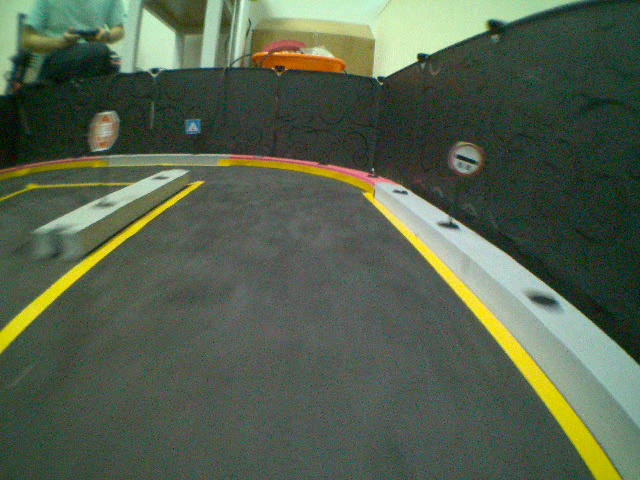Check: (450, 142, 485, 177)
Stop: (84, 110, 119, 152)
crossing: (184, 118, 200, 135)
